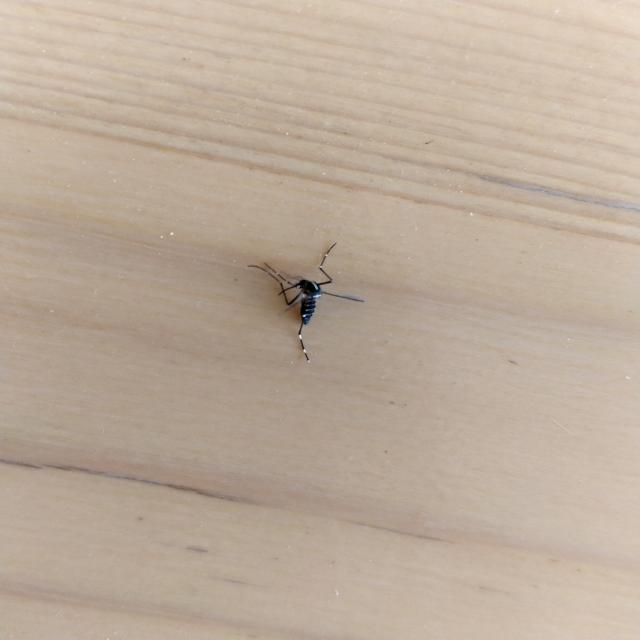albopictus: (238, 238, 370, 364)
